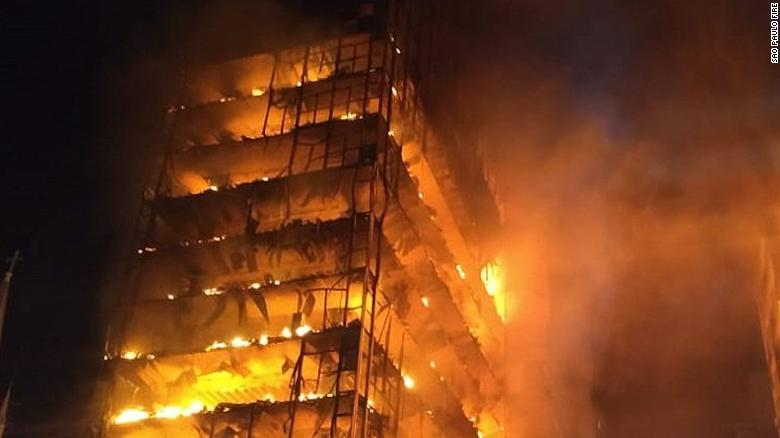Fire: (500, 129, 579, 247), (94, 371, 209, 430), (474, 249, 509, 313), (173, 170, 210, 202), (247, 86, 264, 97)
